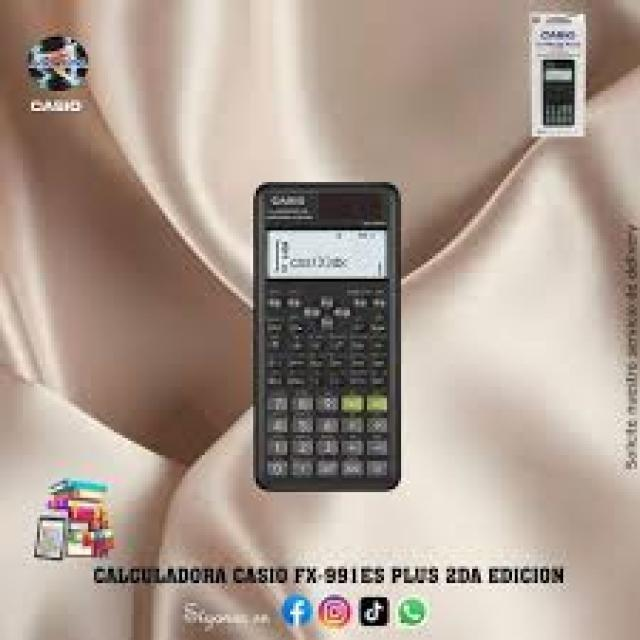Calculator: (237, 178, 404, 493)
